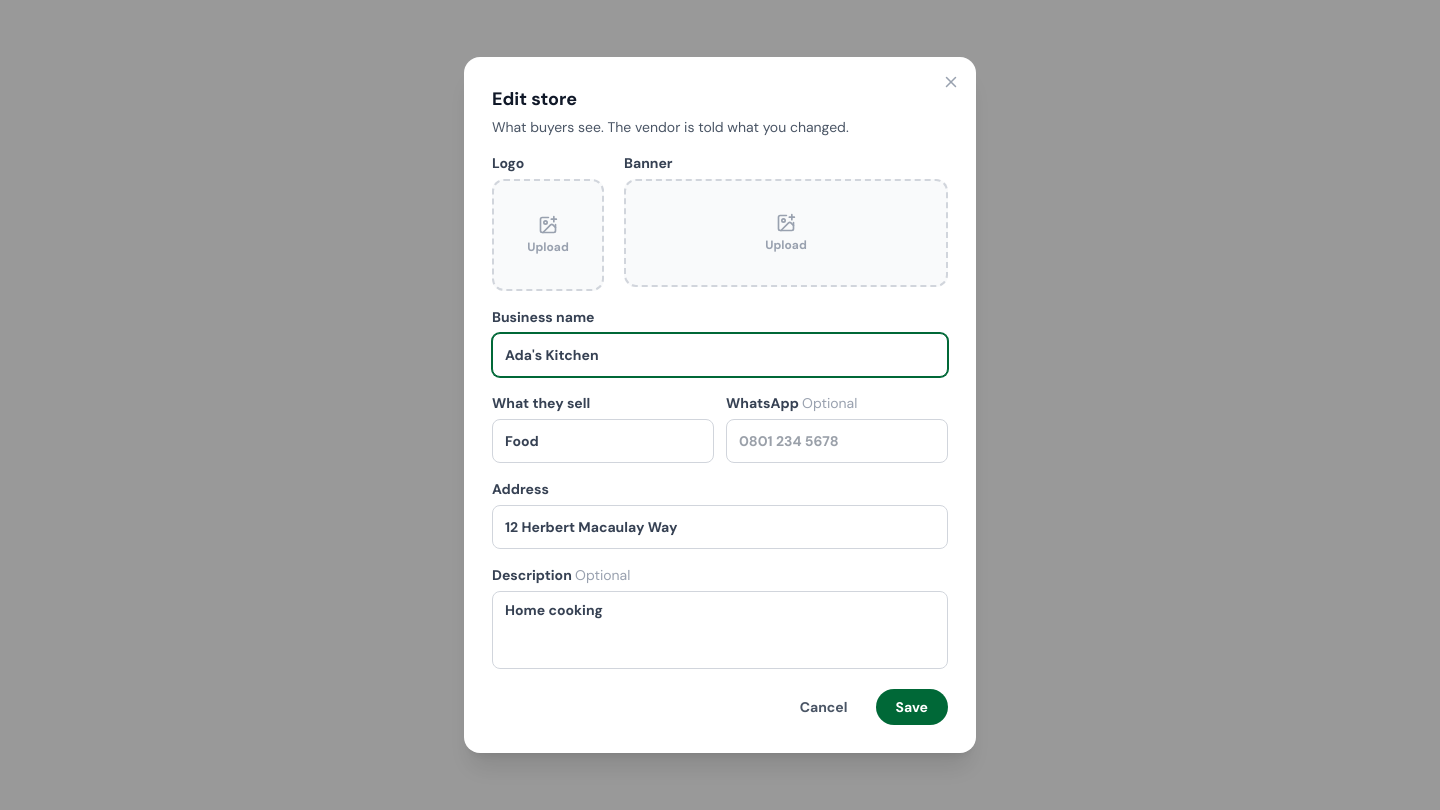
Scenario: Edit store › says so when nothing changed, instead of saving
Click the button "Save".
click(912, 707)  # box [876, 689, 948, 725]
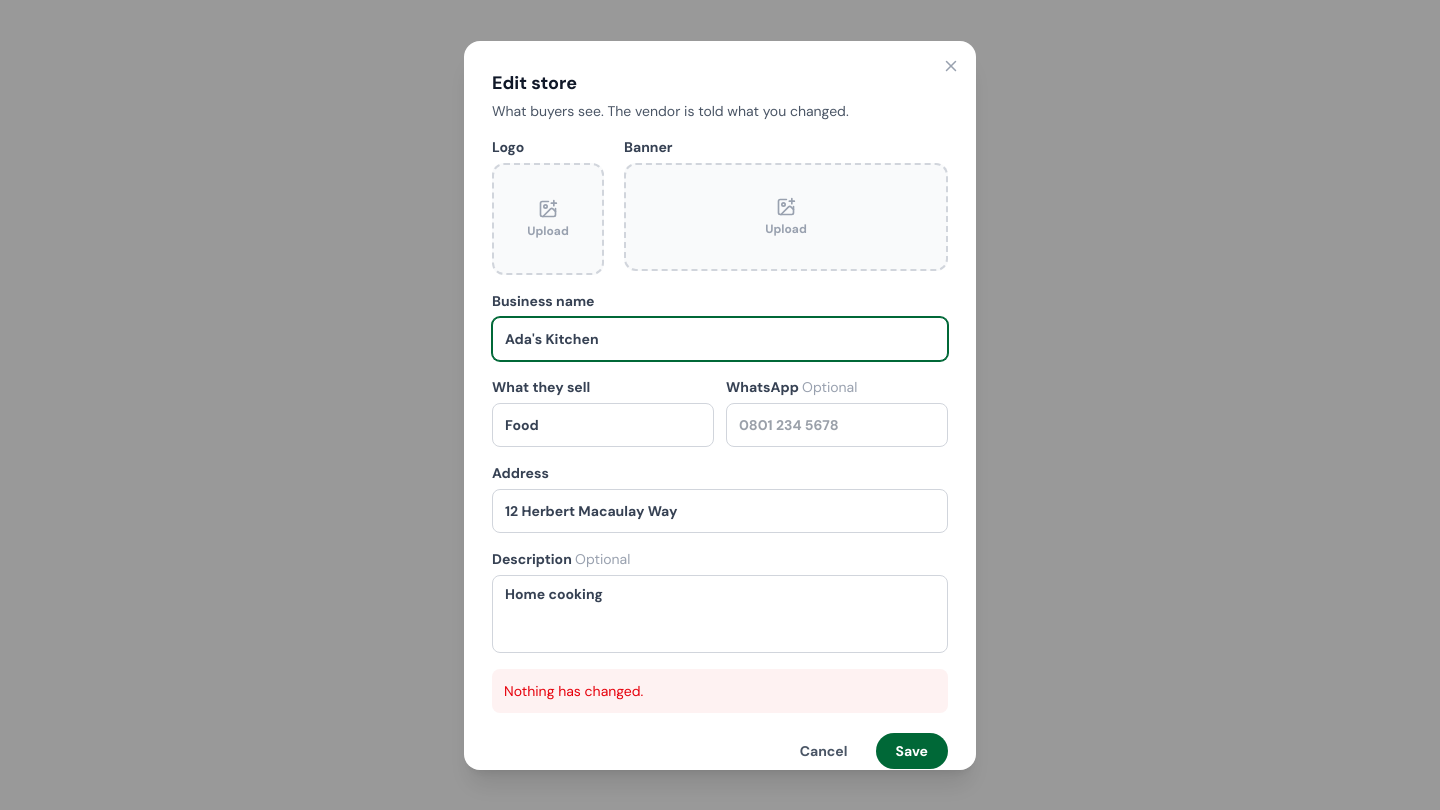
Now the message reads "Nothing has changed.", box [504, 682, 643, 700]
